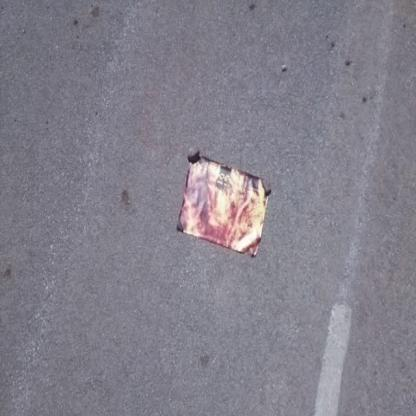fire-poster: (175, 147, 272, 259)
